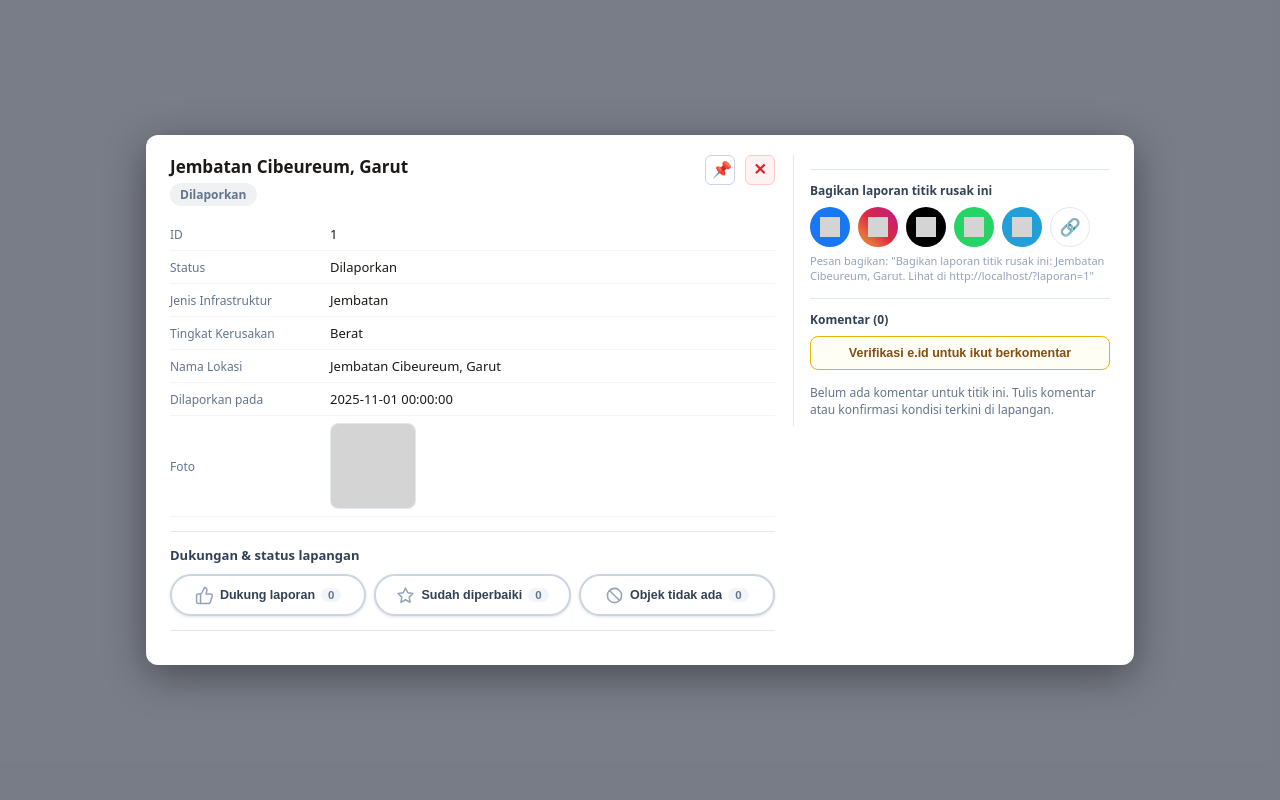
Test: DetailModal: klaim status lapangan (bintang = sudah diperbaiki, ∅ = objek tidak ada) › klik bintang -> POST klaim; klik lagi -> DELETE (uncheck), angka naik/turun
This screenshot has width=1280, height=800.
Click the button with aria-label "Laporkan titik sudah diperbaiki" at (472, 595), box left=374, top=574, right=571, bottom=616
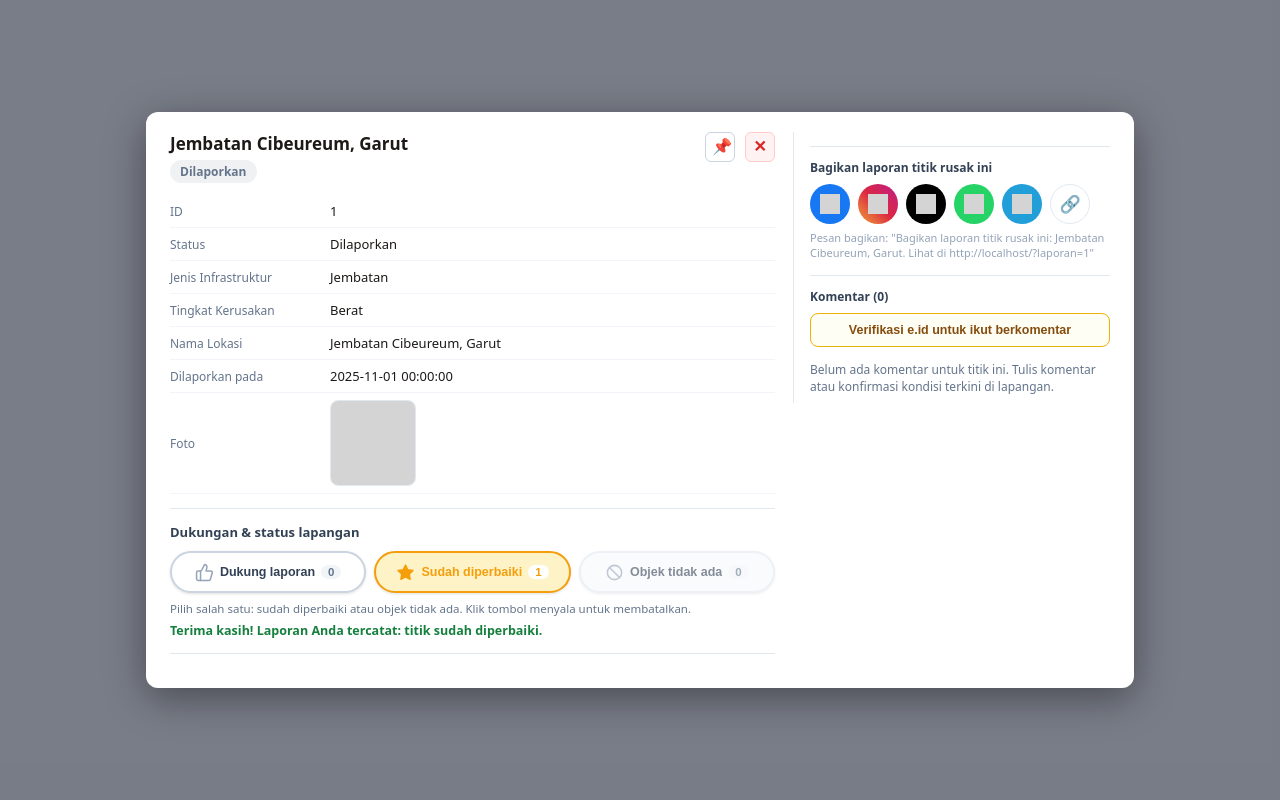
expect the text "1" below "Dukungan & status lapangan" is shown: met, box left=535, top=566, right=542, bottom=578
Click the button with aria-label "Batalkan laporan titik sudah diperbaiki" at (472, 572), box left=374, top=551, right=571, bottom=593
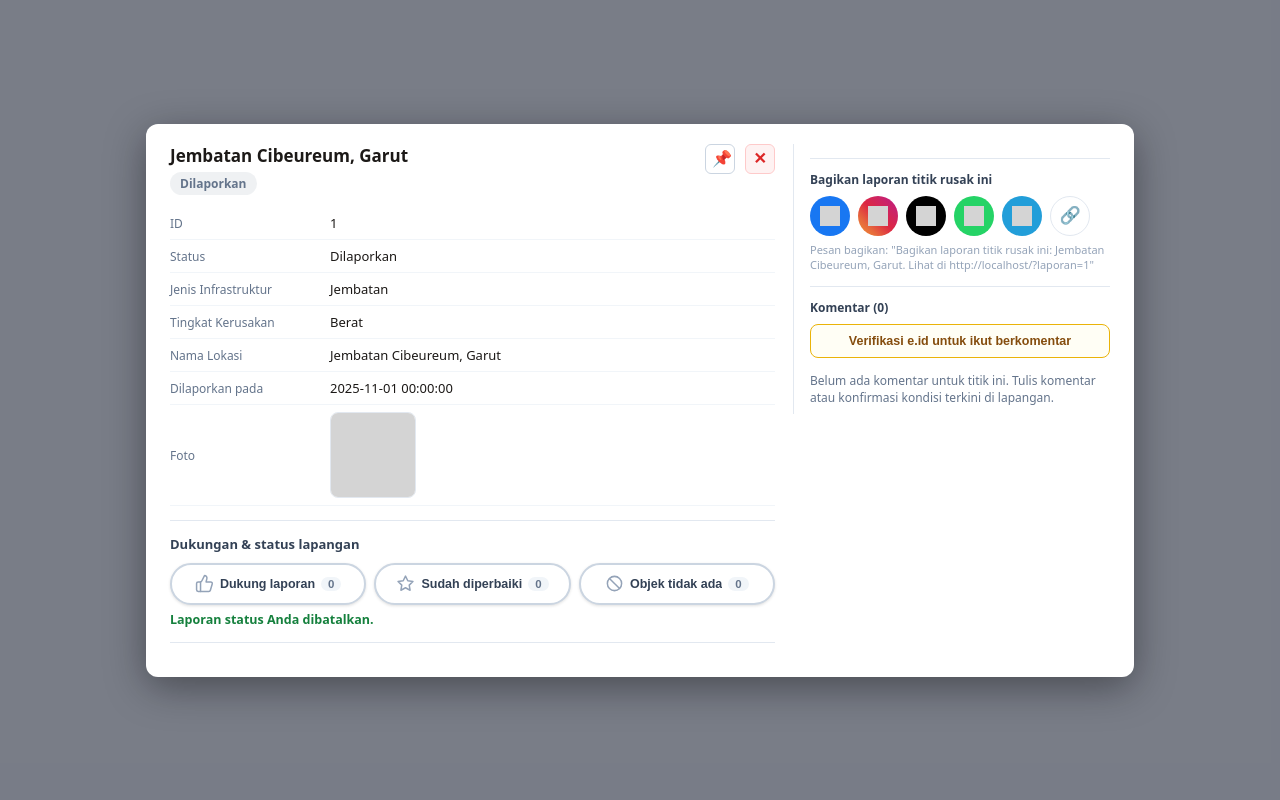
expect the 2nd text "0" is shown: met, box left=528, top=576, right=548, bottom=590
